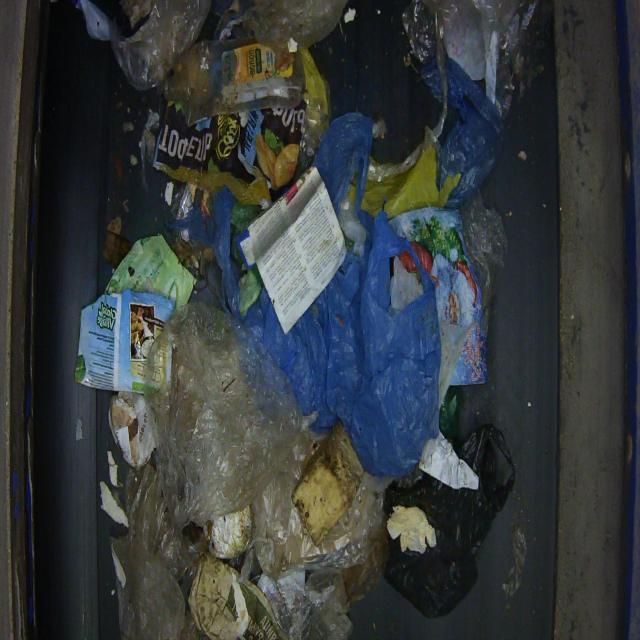organic-waste: (66, 0, 540, 638)
trashbin: (381, 422, 515, 618)
